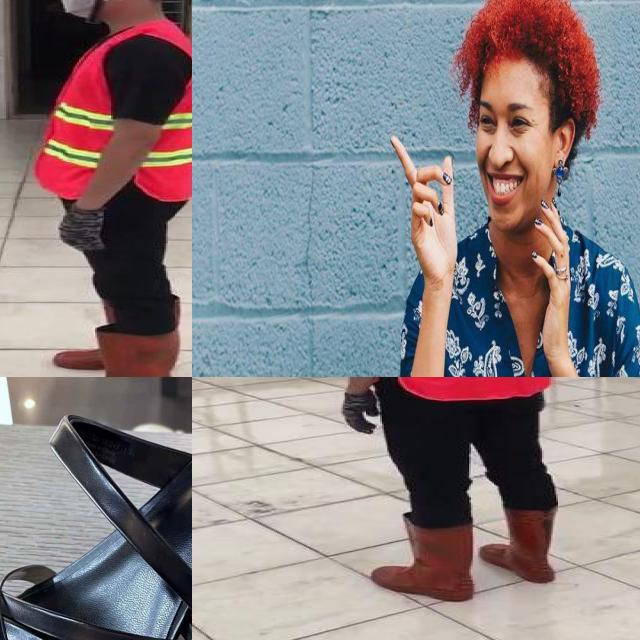No_Ear-Protection: (544, 104, 588, 185)
No_Glasses: (466, 86, 545, 150)
Sandals: (0, 377, 192, 640)
boots: (370, 516, 474, 604), (39, 328, 180, 377), (479, 506, 568, 582)
face_mask: (49, 0, 124, 20)
hand_glove: (60, 204, 106, 252), (339, 391, 384, 434)
person: (15, 0, 192, 377), (333, 377, 587, 610)
vest: (38, 30, 192, 202)
